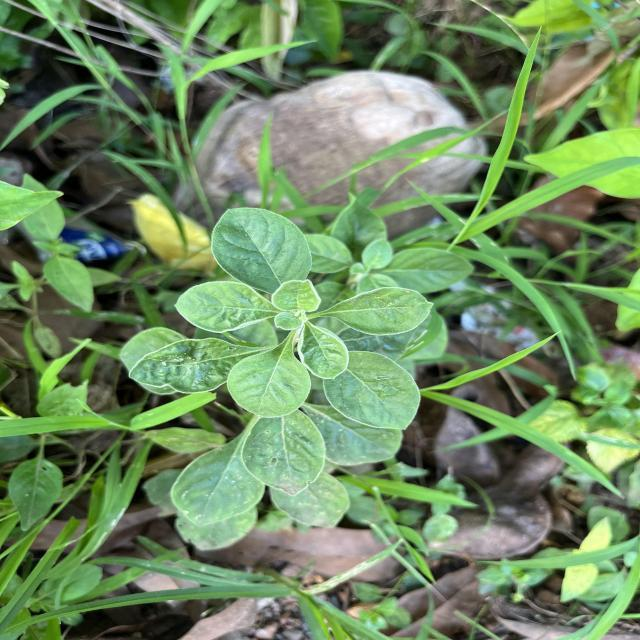Aerva lanata: (208, 206, 316, 296), (321, 350, 424, 432), (225, 340, 314, 420), (322, 285, 436, 339), (172, 279, 278, 336), (294, 321, 351, 382), (268, 278, 324, 316)
